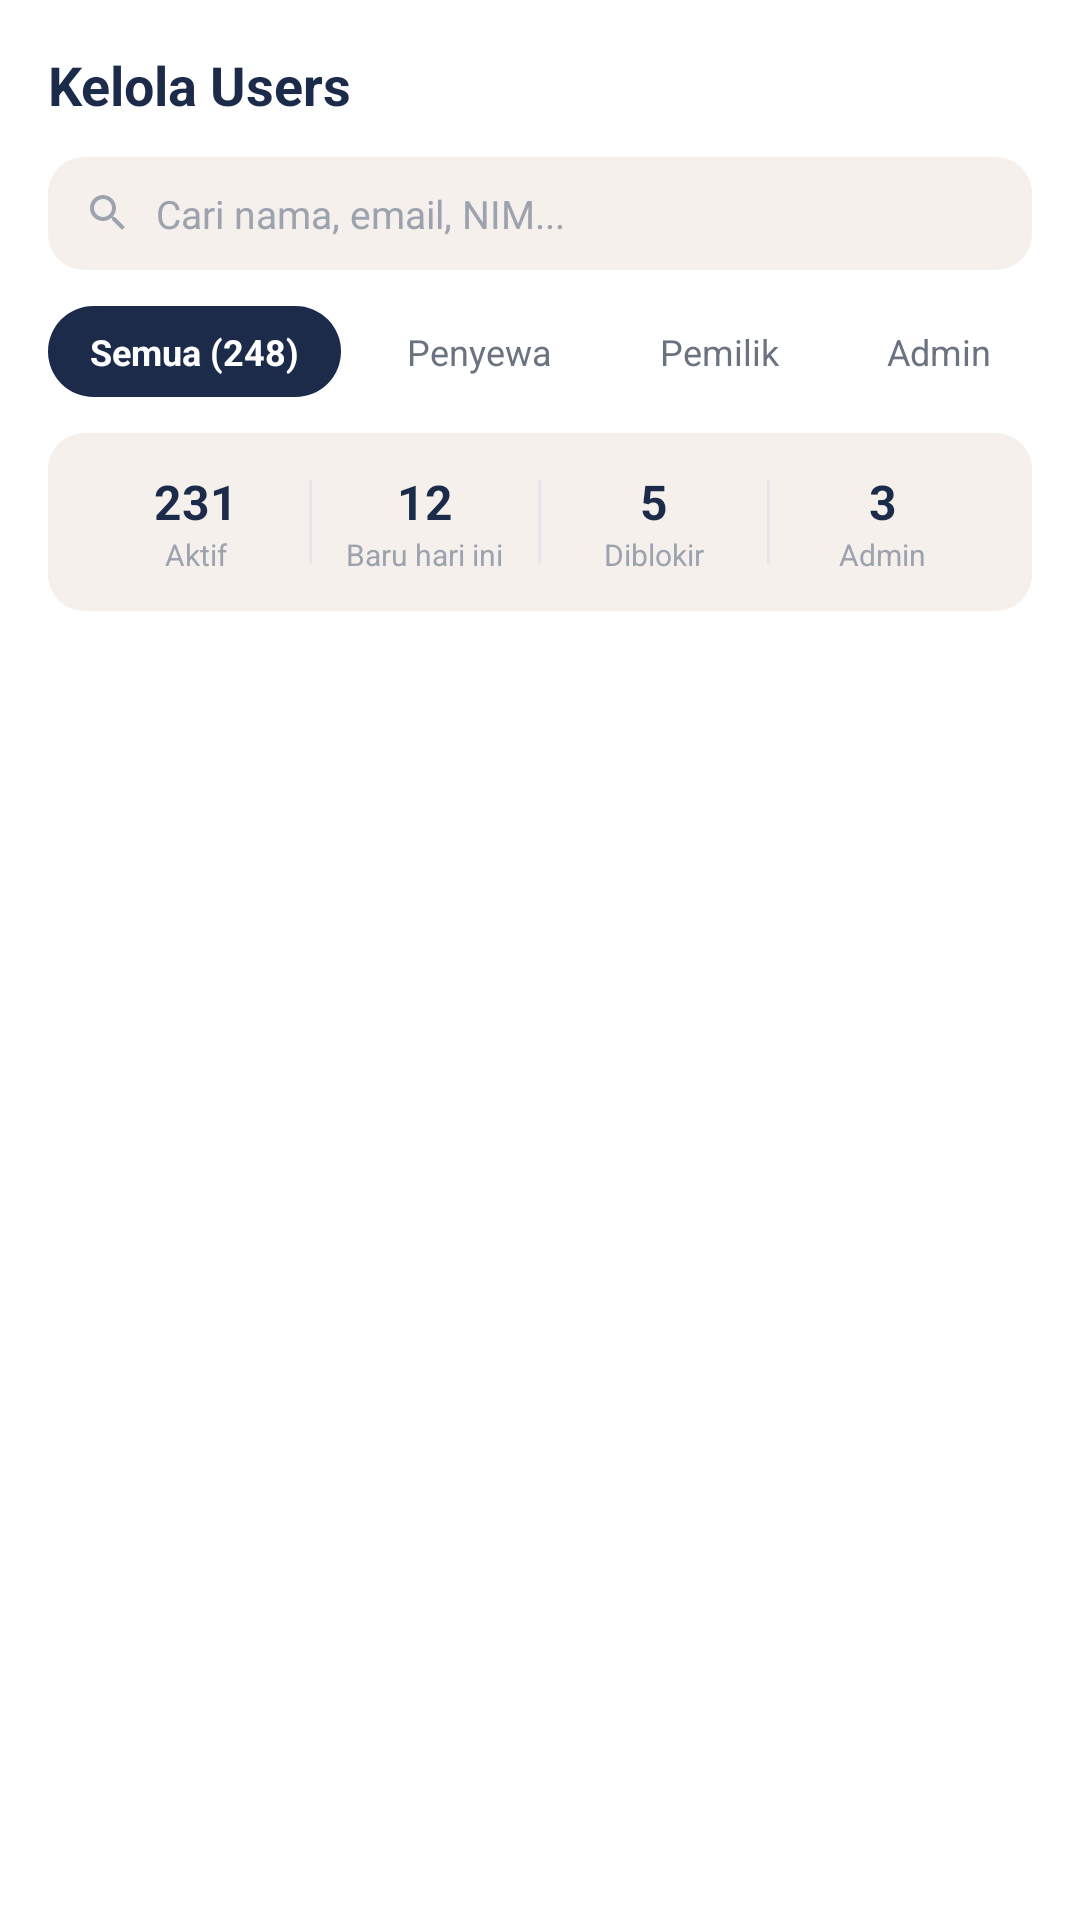

Named icons in this screenshot (1080w x 1920h) and their bounding boxes, [x1,y1,x2,y2]:
search: [90,195,125,230]
